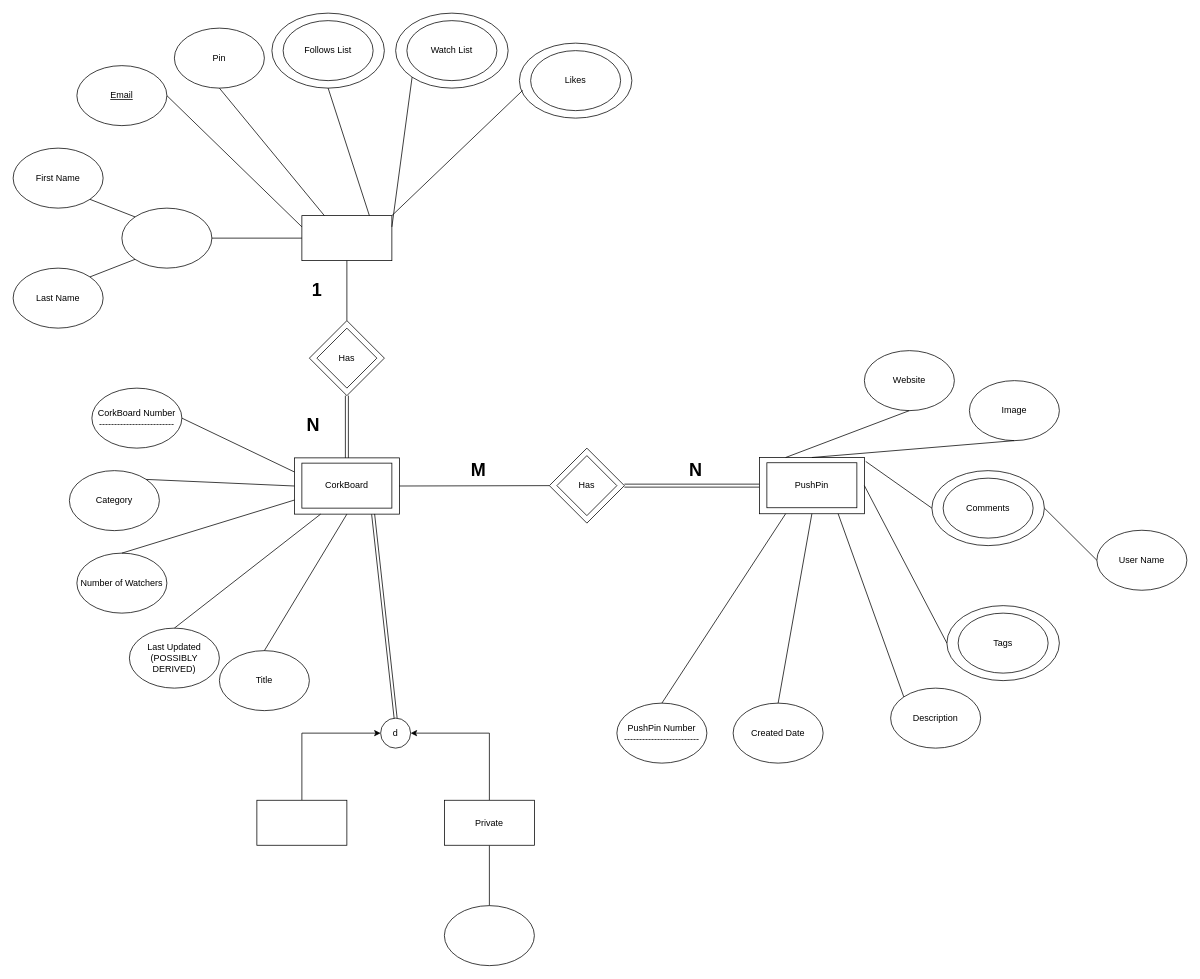
Image size: 1200x979. Some labels were removed from this diagram. Here are the shapes that lost their labels. From the top down, the centre of each, then its label:
At (166,237): "Name".
At (346,238): "User".
At (301,822): "Public".
At (489,935): "Password ---------------".
